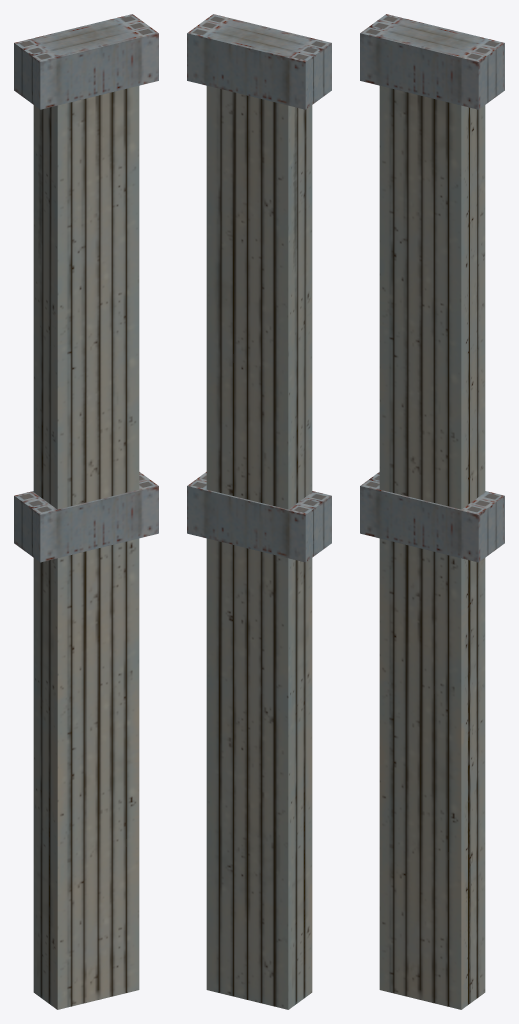
File: Cable_02a_snaps019.fbx
The picture shows the model from 3 angles, left to right: view 1: azimuth 30°, elevation 25°; view 2: azimuth 150°, elevation 25°; view 3: azimuth 330°, elevation 25°; orthographic projection.
Visible parts, largest first — view 1: Cable_02a_snaps019_LOD0; view 2: Cable_02a_snaps019_LOD0; view 3: Cable_02a_snaps019_LOD0.
Part boxes in pixels (x1,y1,x2,y2): Cable_02a_snaps019_LOD0: [14, 14, 158, 1009]; Cable_02a_snaps019_LOD0: [187, 14, 331, 1009]; Cable_02a_snaps019_LOD0: [360, 14, 504, 1009].
Size of what is drawn, in the model's own units: 13.01 by 100 by 4.99.
